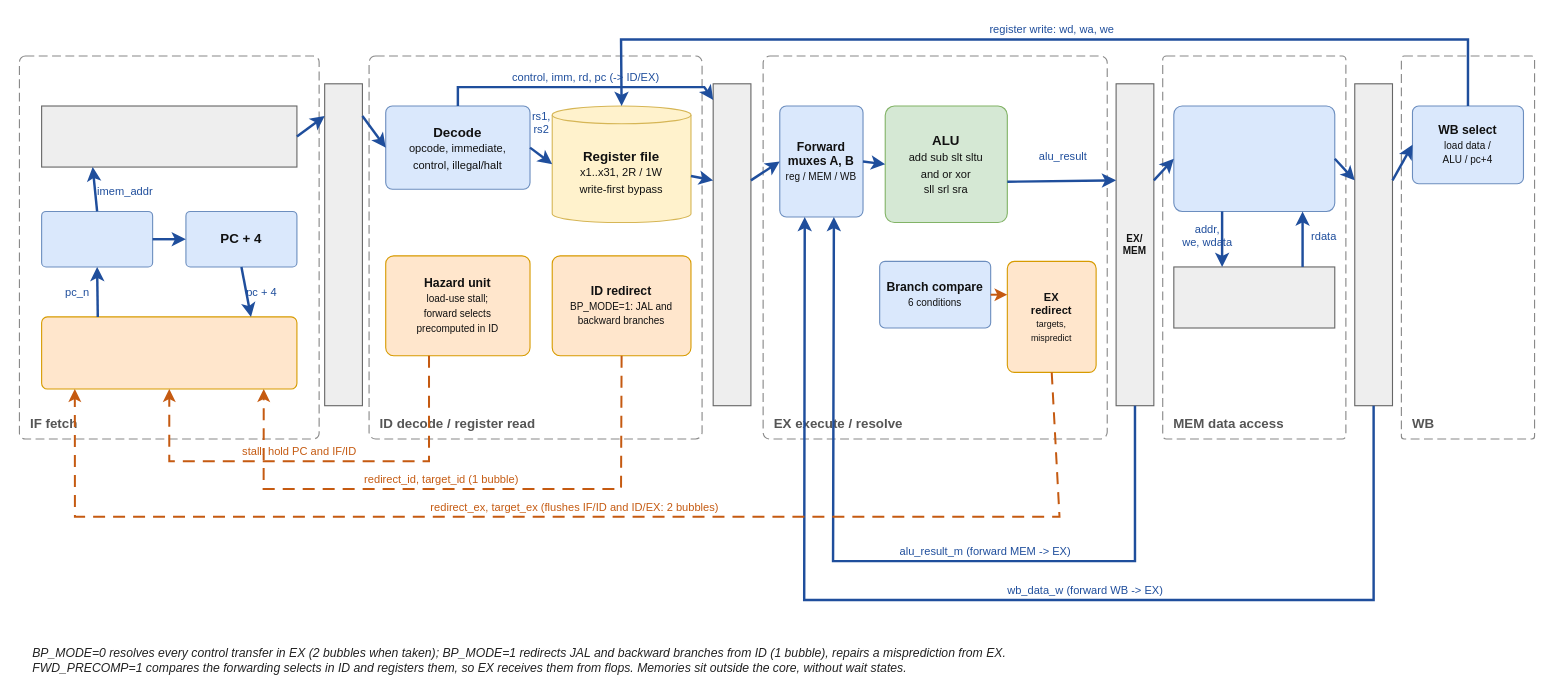
The diagram is 1554 pixels wide and 695 high, and some of its shapes have lost their labels. Each missing label, with the centre of its shape:
Data memory external: point (1254, 297)
ID/ EX: point (731, 244)
IF/ ID: point (343, 244)
Instruction memory external, combinational read: point (169, 136)
Load/store unit byte strobes, lane shift, sign-extend, misalign trap: point (1254, 158)
MEM/ WB: point (1373, 244)
next-PC select halted > EX redirect > stall > ID redirect > PC+4: point (169, 352)
PC pc_f: point (97, 238)
